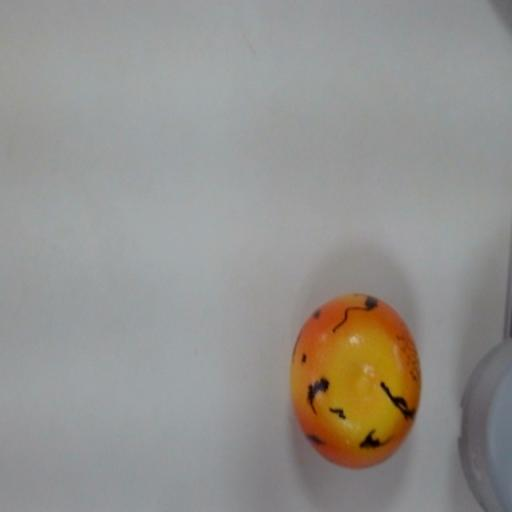Defective: (286, 285, 420, 481)
